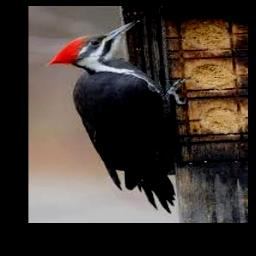Woodpecker: (46, 19, 188, 213)
